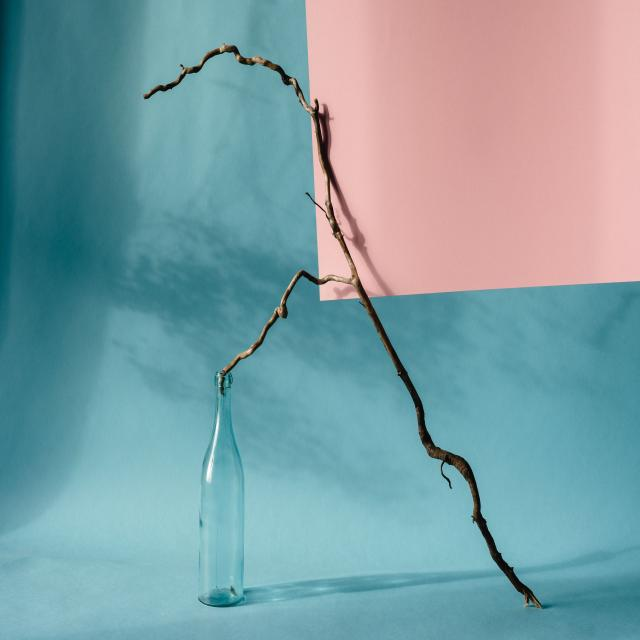Bottle: (199, 373, 244, 606)
